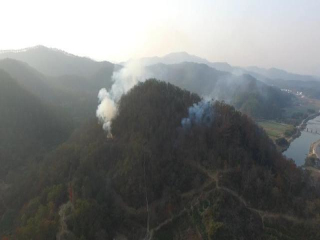smoke: (93, 60, 152, 144), (178, 85, 222, 136)
